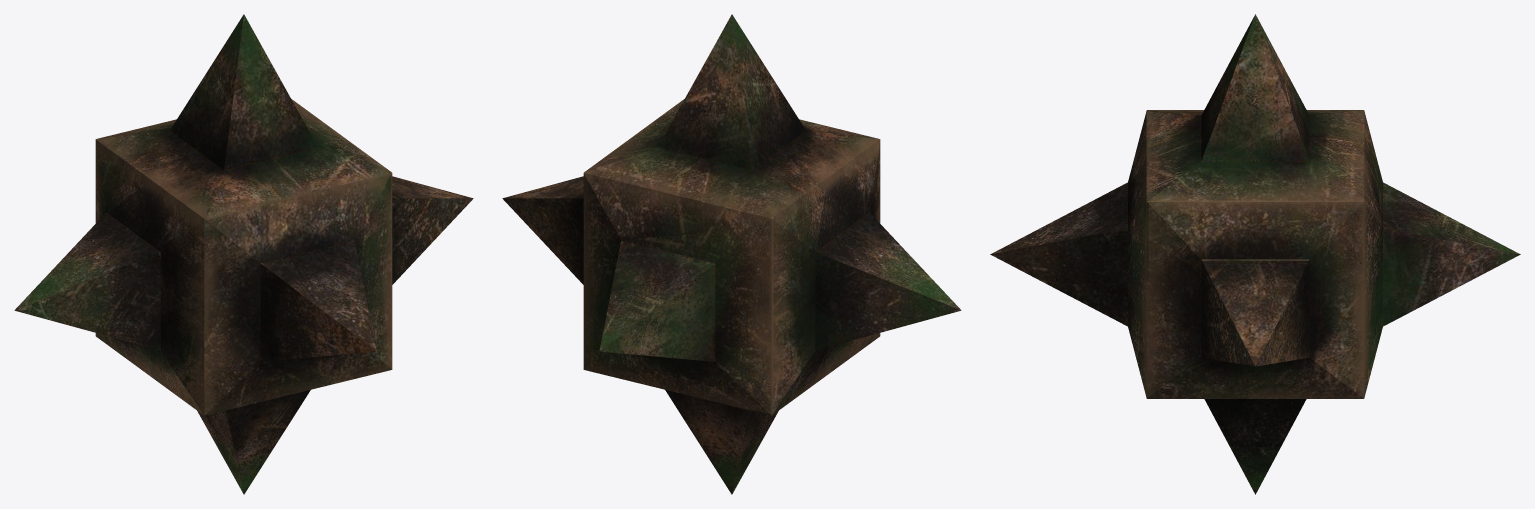
The model's file is Pincho--Oxidado.fbx.
3 views of the same model, side by side, from view 1: azimuth 30°, elevation 25°; view 2: azimuth 150°, elevation 25°; view 3: azimuth 270°, elevation 25° (orthographic).
Visible parts, largest first — view 1: Pincho; view 2: Pincho; view 3: Pincho.
Boxes of the visible parts, box(x1,y1,x2,y2) form: Pincho: box(14, 14, 473, 494); Pincho: box(502, 14, 961, 494); Pincho: box(990, 14, 1520, 494).
Size of the model in its own units: 488 by 488 by 488.
1 material, 1 textured.
